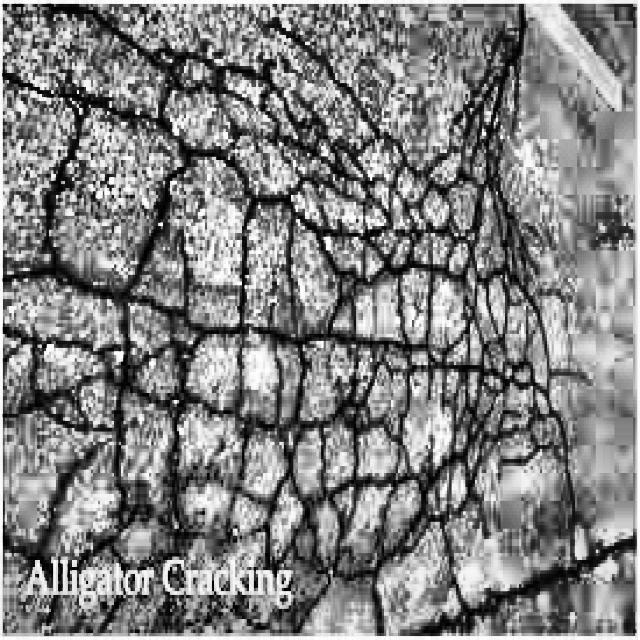alligator_cracks: (133, 184, 489, 508)
